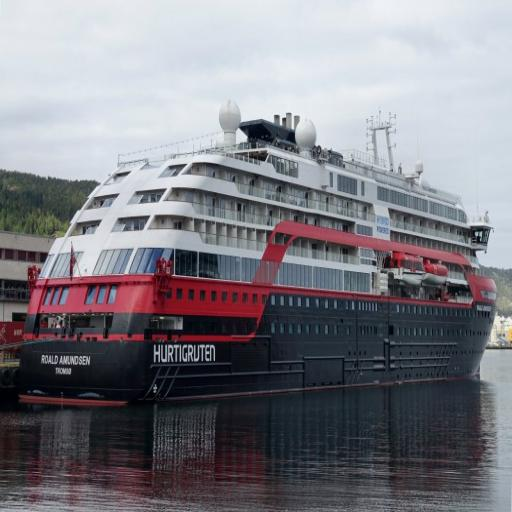cruises: (14, 96, 501, 415)
